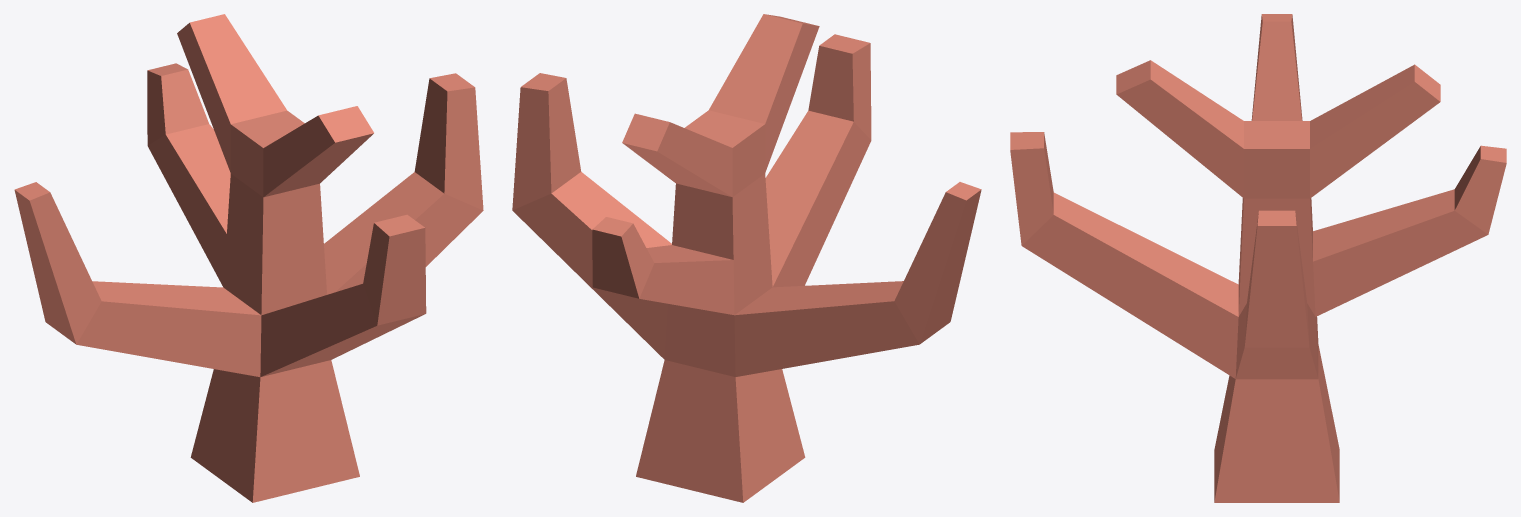
File: CoralPink.glb
3 renders of one model, left to right at view 1: azimuth 30°, elevation 25°; view 2: azimuth 150°, elevation 25°; view 3: azimuth 270°, elevation 25°, orthographic.
Parts seen in each view (by area): view 1: Cube; view 2: Cube; view 3: Cube.
Boxes of the visible parts, x1,y1,x2,y2 form: Cube: (14, 14, 483, 502); Cube: (512, 14, 981, 502); Cube: (1010, 14, 1506, 502).
Bounding box in the file's own units: 1.04 × 0.8937 × 0.9891.
